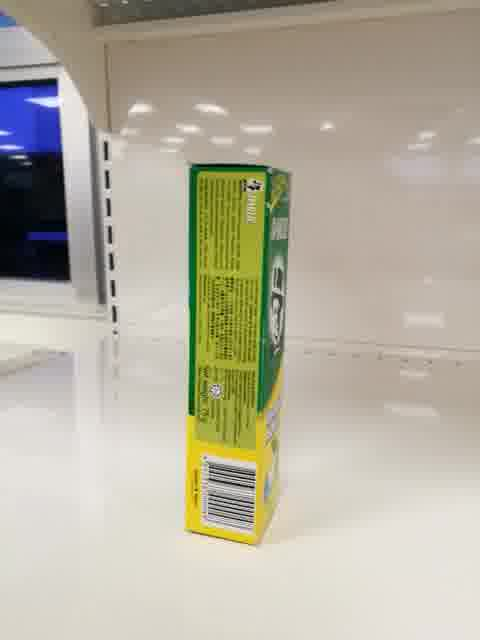toothpaste: (185, 162, 291, 549)
